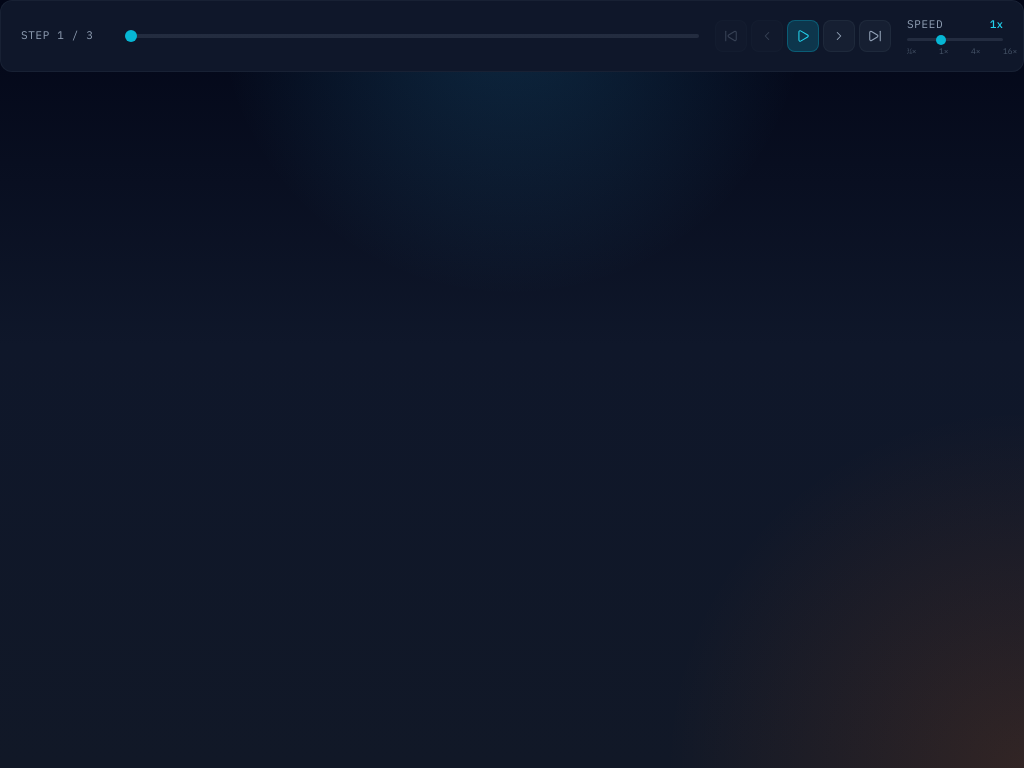
Scenario: PlaybackBar › autoplays through the timeline and pauses after reaching the final step
This screenshot has width=1024, height=768.
Click the button named "Play" at [803, 36], box [787,20,819,52]
Wait 2100 ms
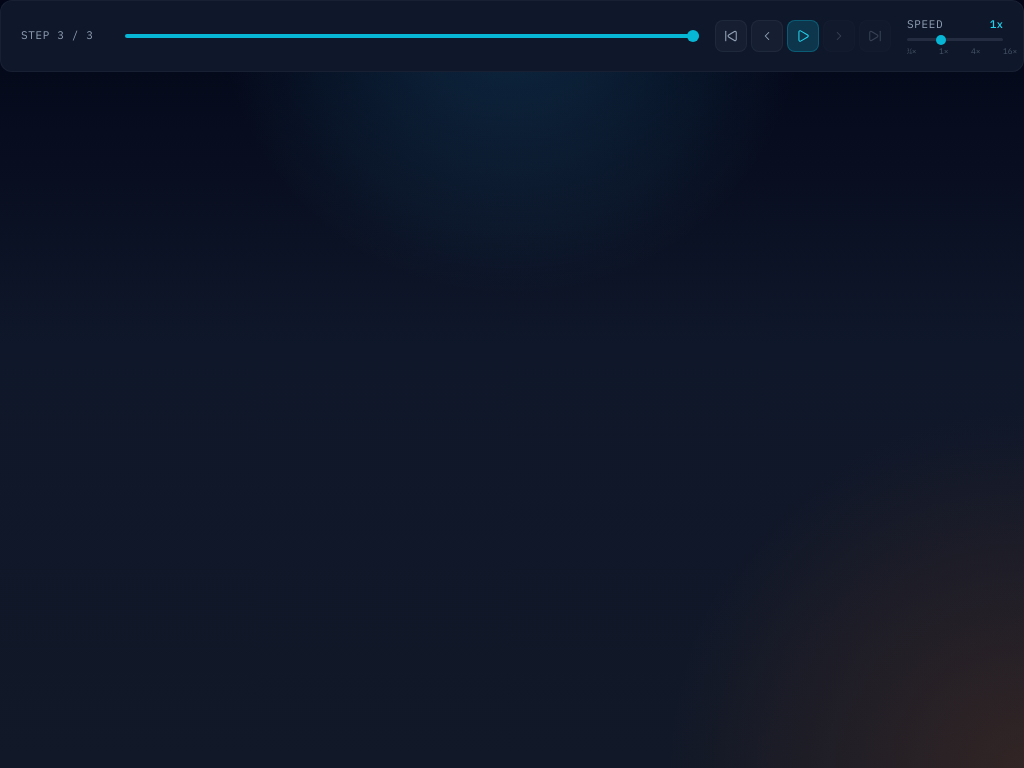
Expected: the text "STEP 3 / 3" is shown, [21,28,94,42]
